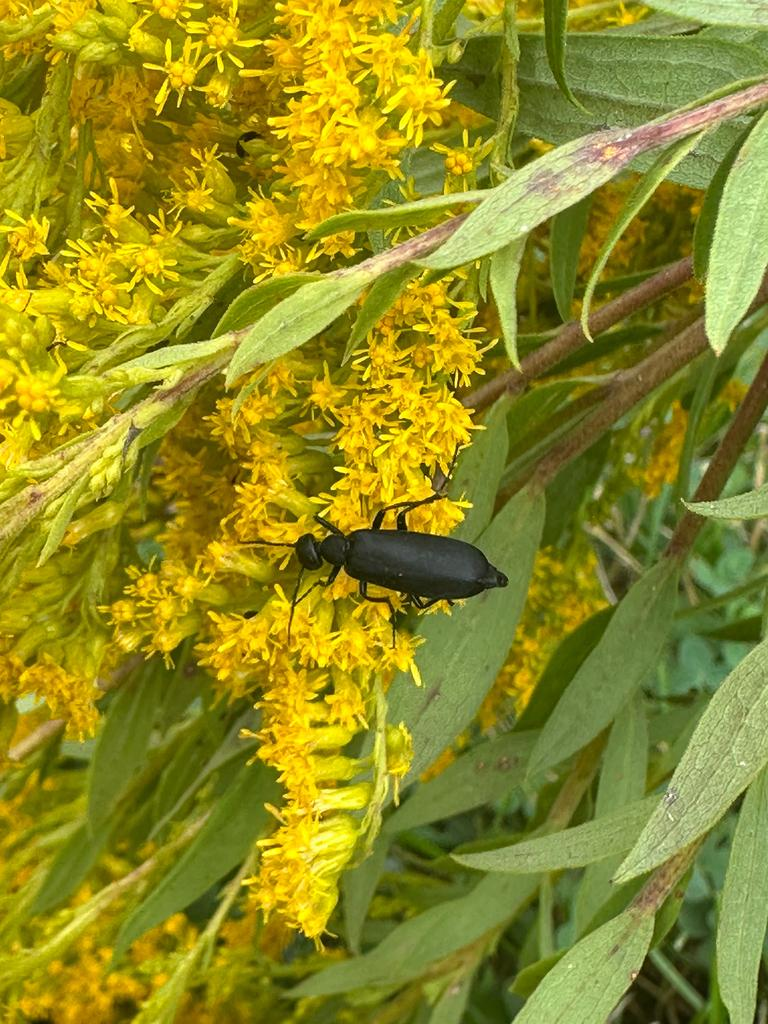blister_beetle: (212, 463, 547, 678)
